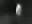person: (16, 4, 24, 18)
